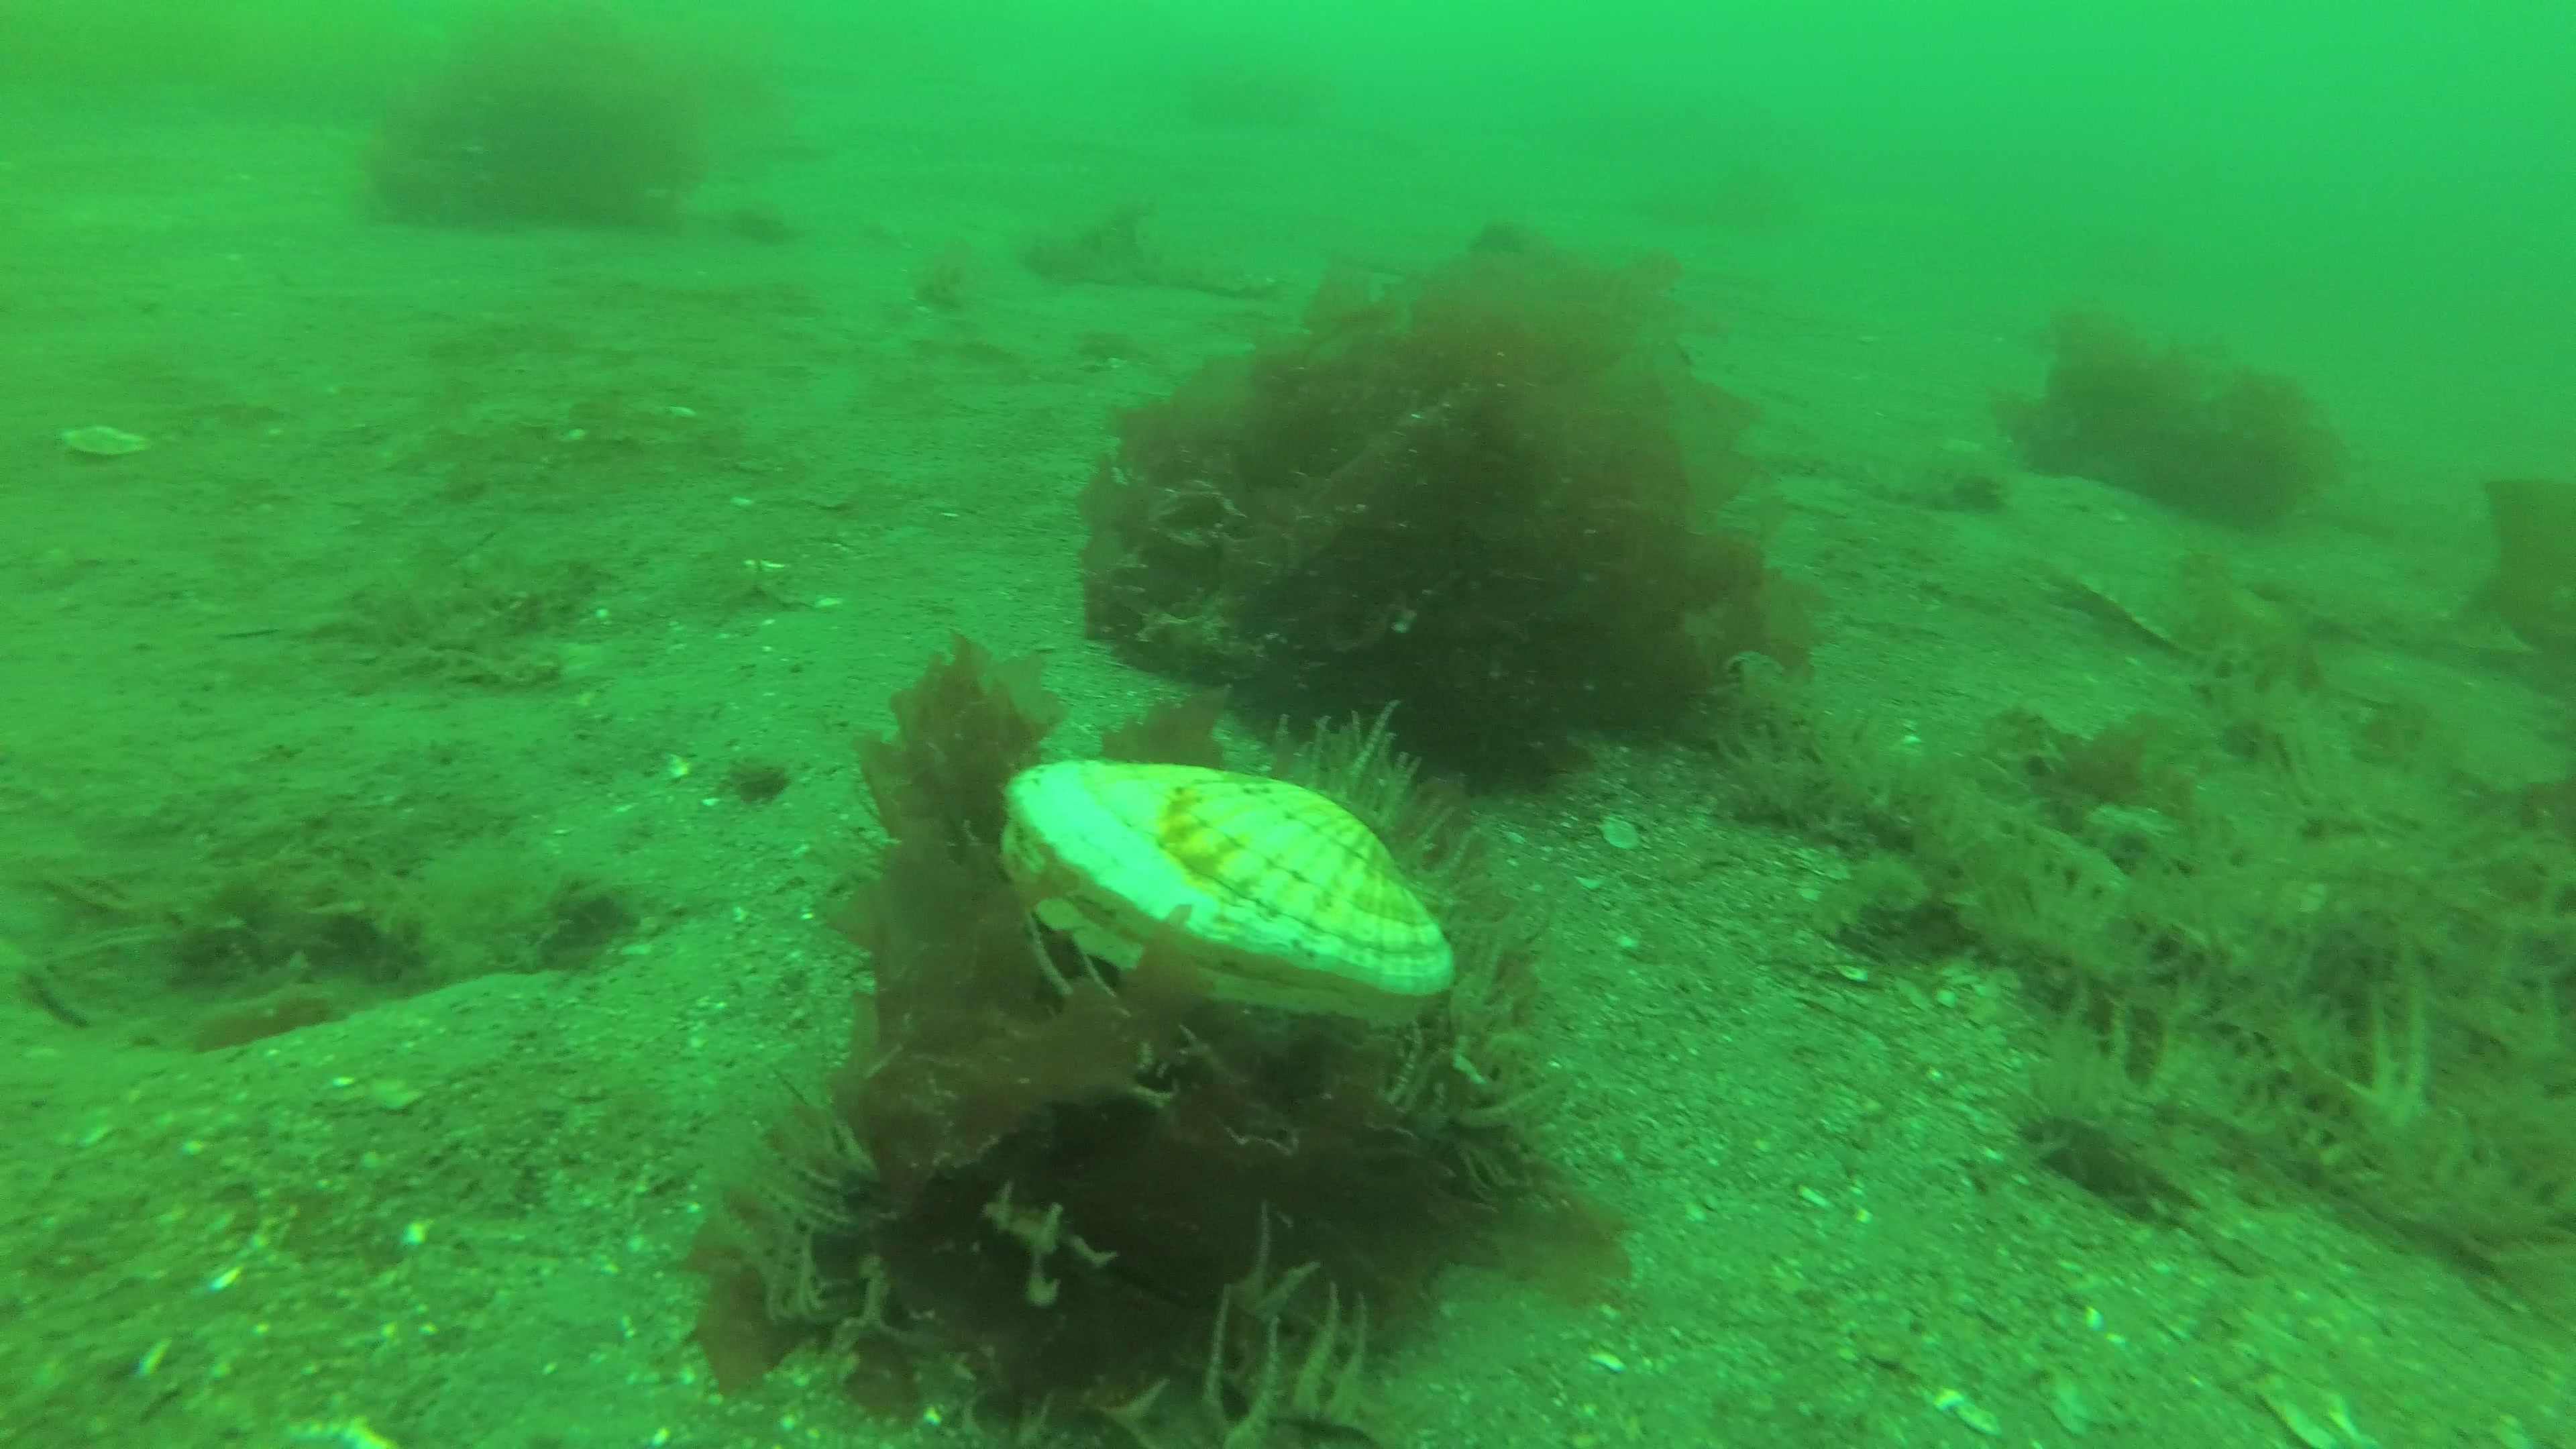scallop: (1003, 755, 1463, 1035)
